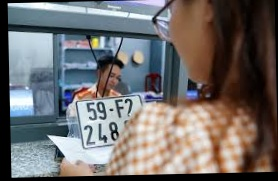Bien-so: (76, 96, 143, 150)
